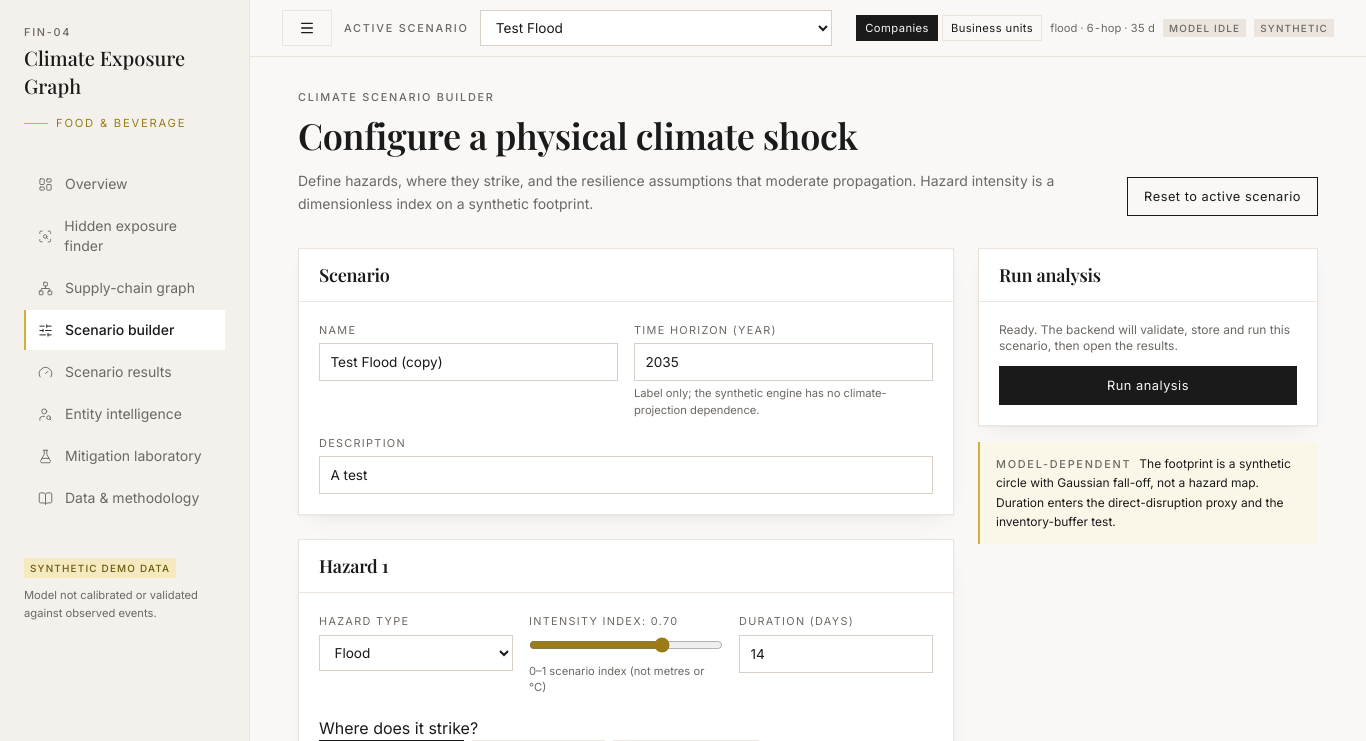
Scenario: Scenario builder › disables the run button until the draft is valid and lists problems
The width and height of the screenshot is (1366, 741).
Expected: the button "Run analysis" is enabled, x1=999 y1=366 x2=1297 y2=405
Clear the field named "Scenario name": (468, 362) x1=319 y1=343 x2=618 y2=381
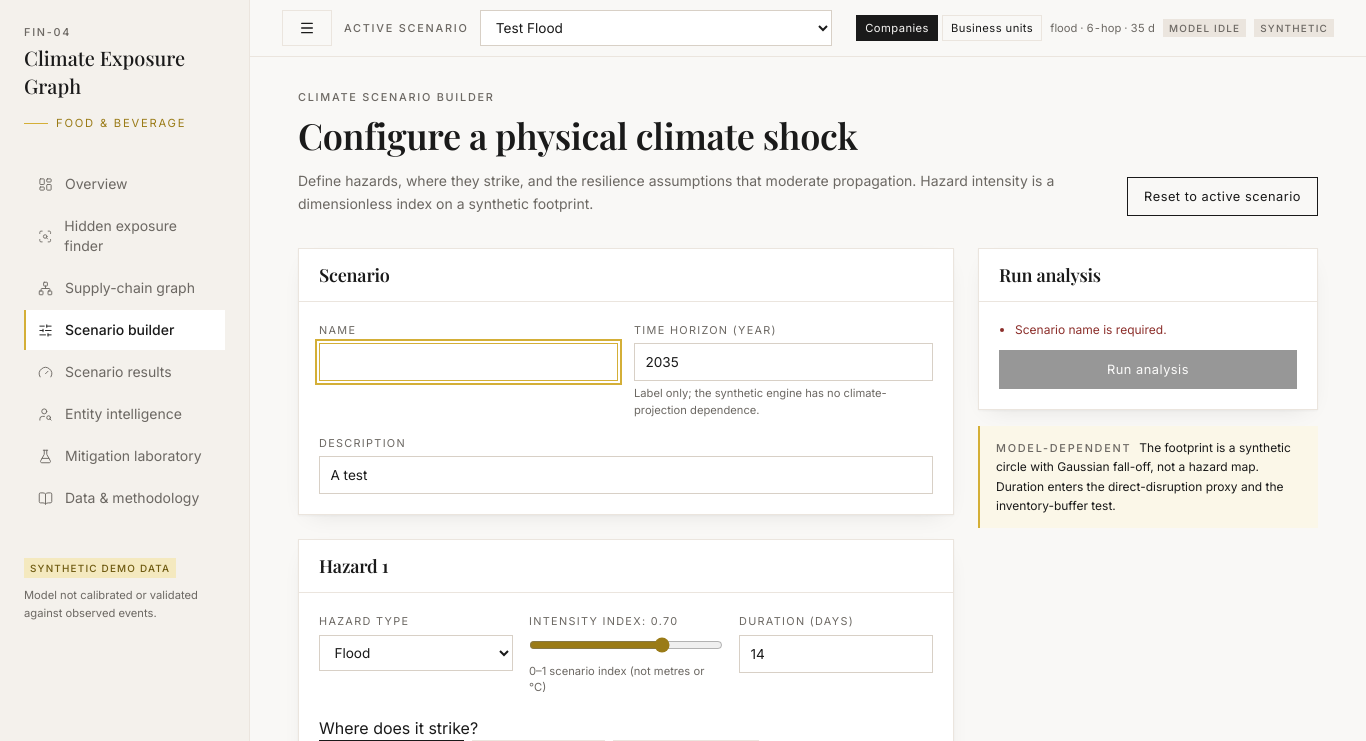
Result: the button "Run analysis" is disabled at x1=999 y1=350 x2=1297 y2=389
Result: the message shows "name is required" at x1=1015 y1=322 x2=1167 y2=337
